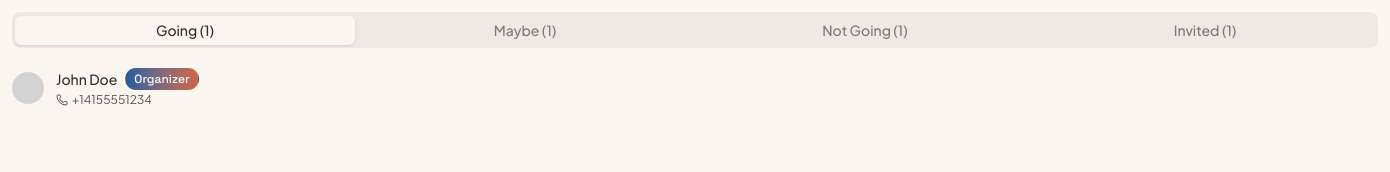
Scenario: MembersList › mute/unmute controls › shows Mute option for non-organizer member when organizer views
Click the tab "Maybe (1)".
click(525, 30)  # box [355, 16, 695, 44]
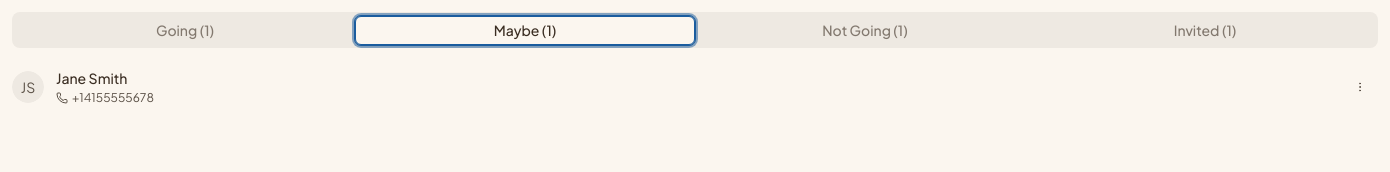
Click the button named "Actions for Jane Smith".
click(1360, 87)  # box [1342, 69, 1378, 105]
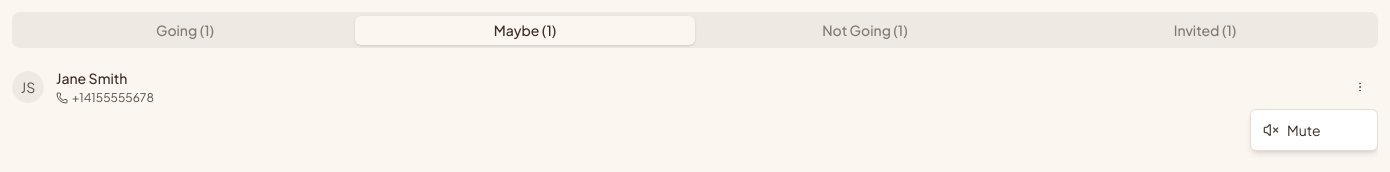
expect the menu item "Mute" is shown: met, box [1263, 121, 1320, 139]
